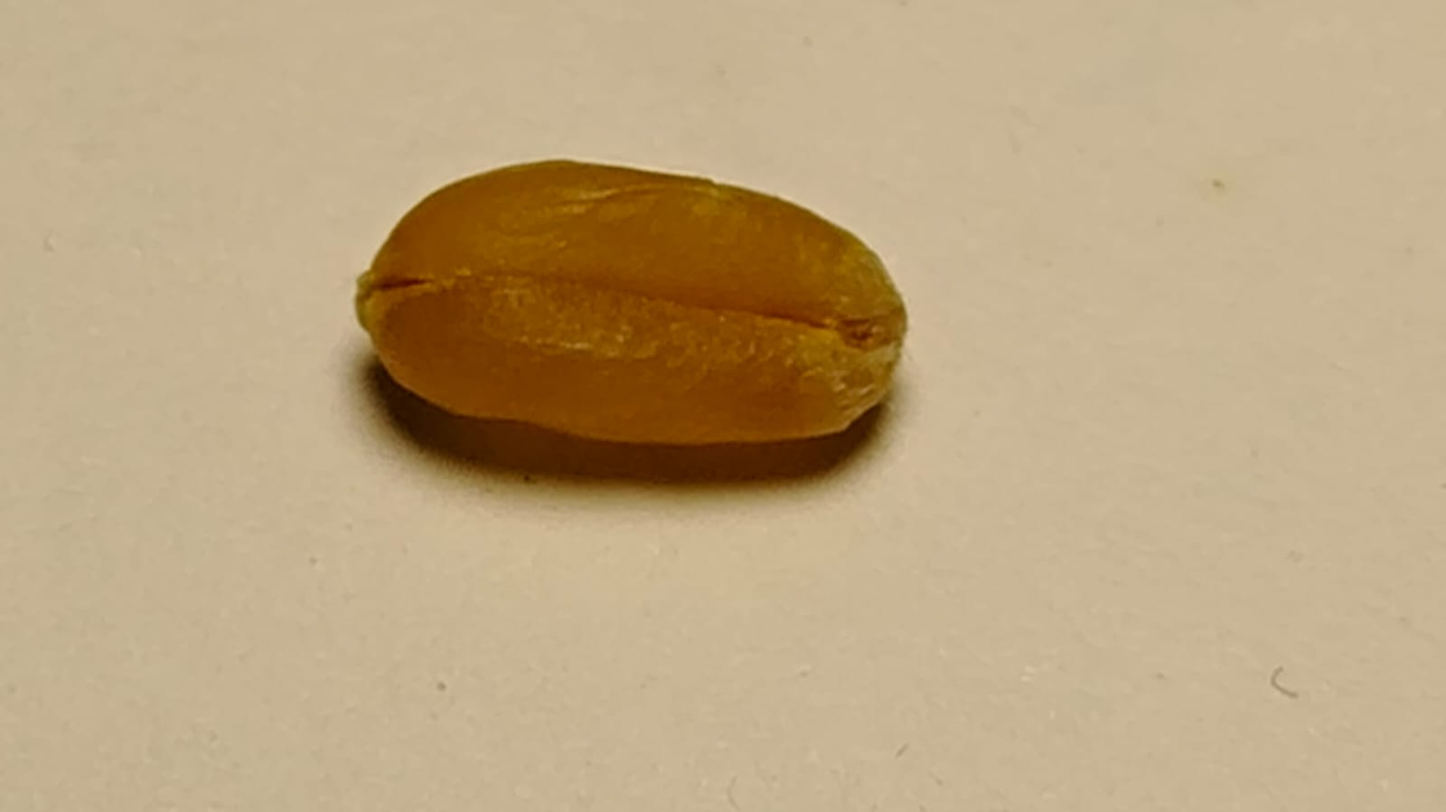healthy: (356, 160, 906, 443)
